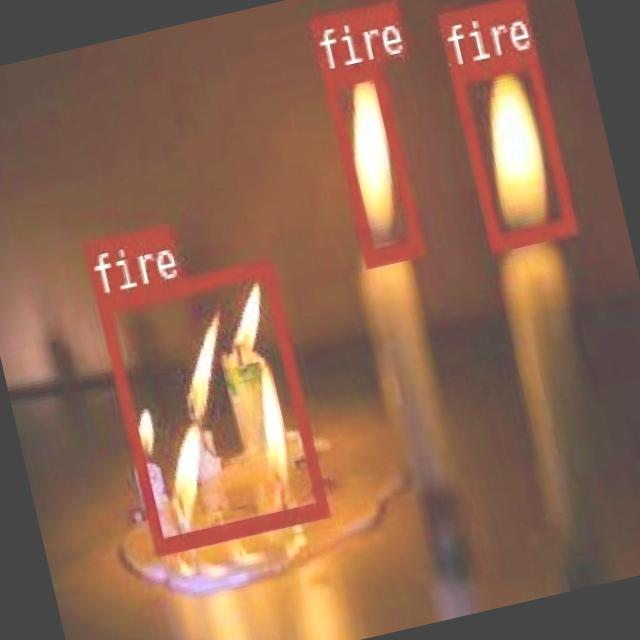fire: (95, 258, 326, 553), (448, 49, 573, 247), (320, 60, 422, 262)
